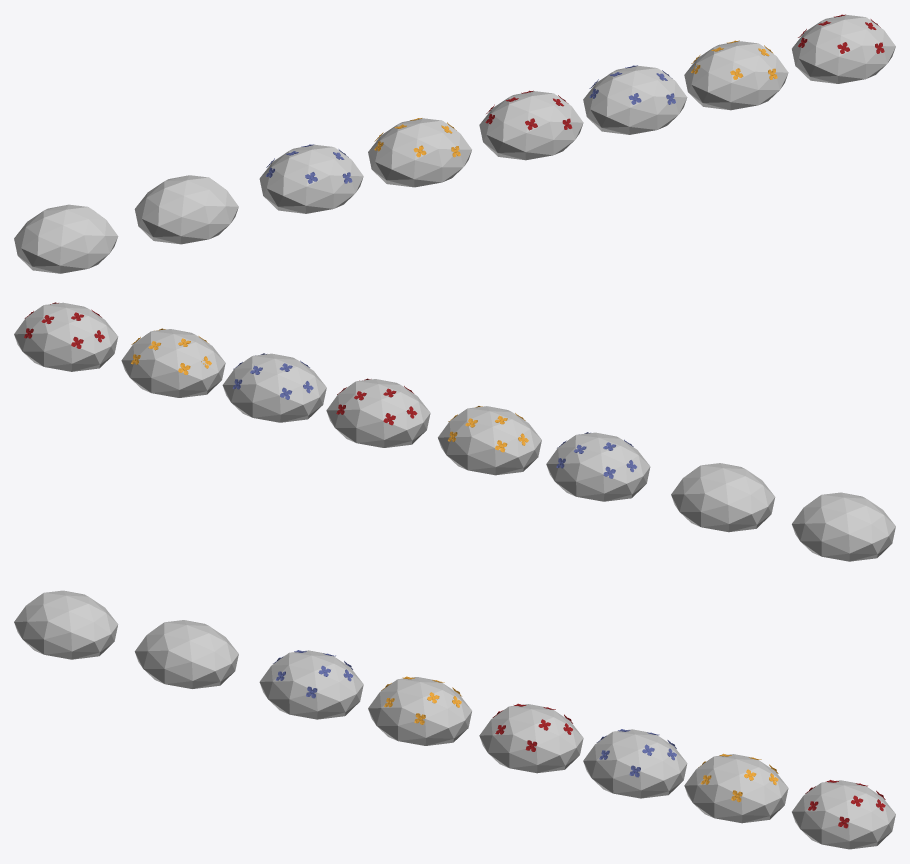
The model's file is bushes.fbx.
3 views of the same model, one above another, from view 1: azimuth 30°, elevation 25°; view 2: azimuth 150°, elevation 25°; view 3: azimuth 330°, elevation 25° (orthographic).
Visible parts, largest first — view 1: SM_bushflower_5_DN, SM_bushflower_4_DN, SM_bushflower_1_DN, SM_bushflower_3_DN, SM_bushflower_2_DN, SM_bushflower_6_DN, SM_bush_1_DN, SM_bush_2_DN; view 2: SM_bushflower_5_DN, SM_bushflower_3_DN, SM_bushflower_4_DN, SM_bushflower_6_DN, SM_bushflower_1_DN, SM_bushflower_2_DN, SM_bush_1_DN, SM_bush_2_DN; view 3: SM_bushflower_1_DN, SM_bushflower_4_DN, SM_bushflower_3_DN, SM_bushflower_6_DN, SM_bushflower_2_DN, SM_bushflower_5_DN, SM_bush_1_DN, SM_bush_2_DN.
Boxes of the visible parts, box(x1,y1,x2,y2) form: SM_bushflower_5_DN: box(684, 40, 788, 110); SM_bushflower_4_DN: box(583, 65, 687, 134); SM_bushflower_1_DN: box(259, 144, 363, 213); SM_bushflower_3_DN: box(479, 90, 583, 160); SM_bushflower_2_DN: box(368, 118, 471, 187); SM_bushflower_6_DN: box(792, 14, 895, 83); SM_bush_1_DN: box(14, 204, 118, 273); SM_bush_2_DN: box(134, 175, 238, 244); SM_bushflower_5_DN: box(121, 328, 225, 397); SM_bushflower_3_DN: box(326, 378, 430, 447); SM_bushflower_4_DN: box(222, 353, 326, 422); SM_bushflower_6_DN: box(14, 302, 118, 371); SM_bushflower_1_DN: box(546, 432, 650, 501); SM_bushflower_2_DN: box(438, 406, 541, 475); SM_bush_1_DN: box(792, 492, 895, 561); SM_bush_2_DN: box(671, 463, 775, 532); SM_bushflower_1_DN: box(259, 650, 363, 719); SM_bushflower_4_DN: box(583, 729, 687, 798); SM_bushflower_3_DN: box(479, 703, 583, 773); SM_bushflower_6_DN: box(792, 780, 895, 849); SM_bushflower_2_DN: box(368, 676, 471, 745); SM_bushflower_5_DN: box(684, 753, 788, 823); SM_bush_1_DN: box(14, 590, 118, 659); SM_bush_2_DN: box(134, 620, 238, 688).
Size of the model in its own units: 29.04 by 2.57 by 1.77.
